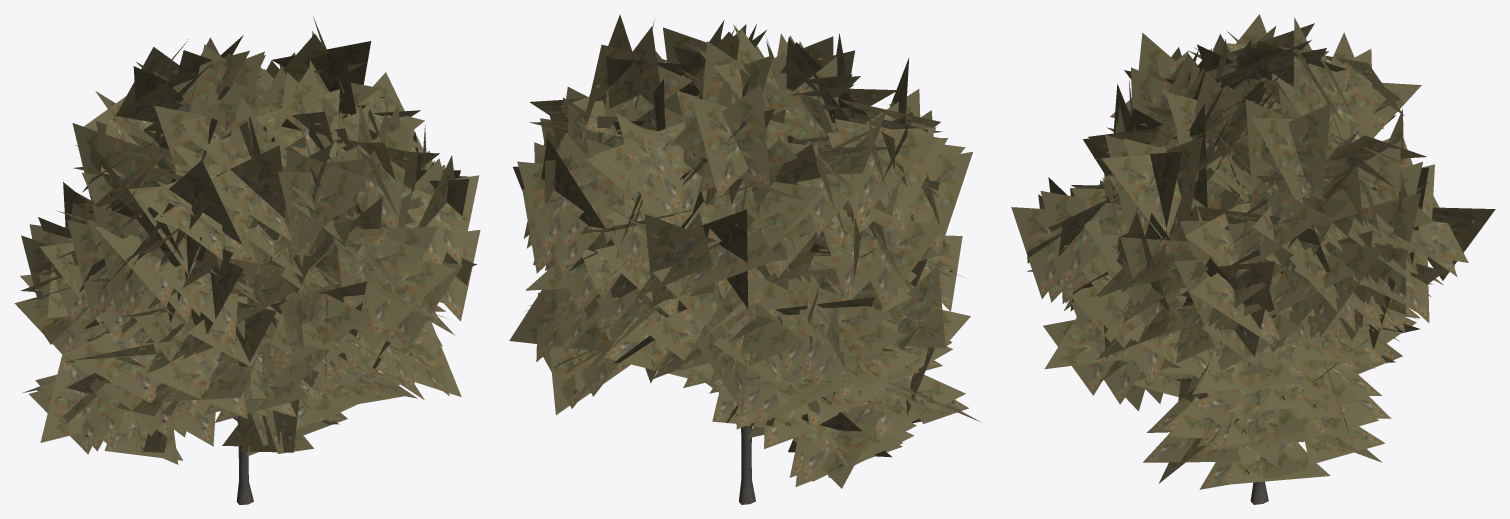
The model's file is Chilopsis_Linearis_Autumn_Adult.glb.
The picture shows the model from 3 angles, left to right: view 1: azimuth 30°, elevation 25°; view 2: azimuth 150°, elevation 25°; view 3: azimuth 270°, elevation 25°; orthographic projection. The views are drawn at different scales.
Parts seen in each view (by area): view 1: Chilopsis_Linearis_Autumn_Adult__LOD3; view 2: Chilopsis_Linearis_Autumn_Adult__LOD3; view 3: Chilopsis_Linearis_Autumn_Adult__LOD3.
Part boxes in pixels (x1,y1,x2,y2): Chilopsis_Linearis_Autumn_Adult__LOD3: (14, 16, 480, 504); Chilopsis_Linearis_Autumn_Adult__LOD3: (509, 14, 981, 504); Chilopsis_Linearis_Autumn_Adult__LOD3: (1011, 14, 1495, 504).
Bounding box in the file's own units: 6.46 × 6.7 × 6.36.
3 materials, 3 textured.
